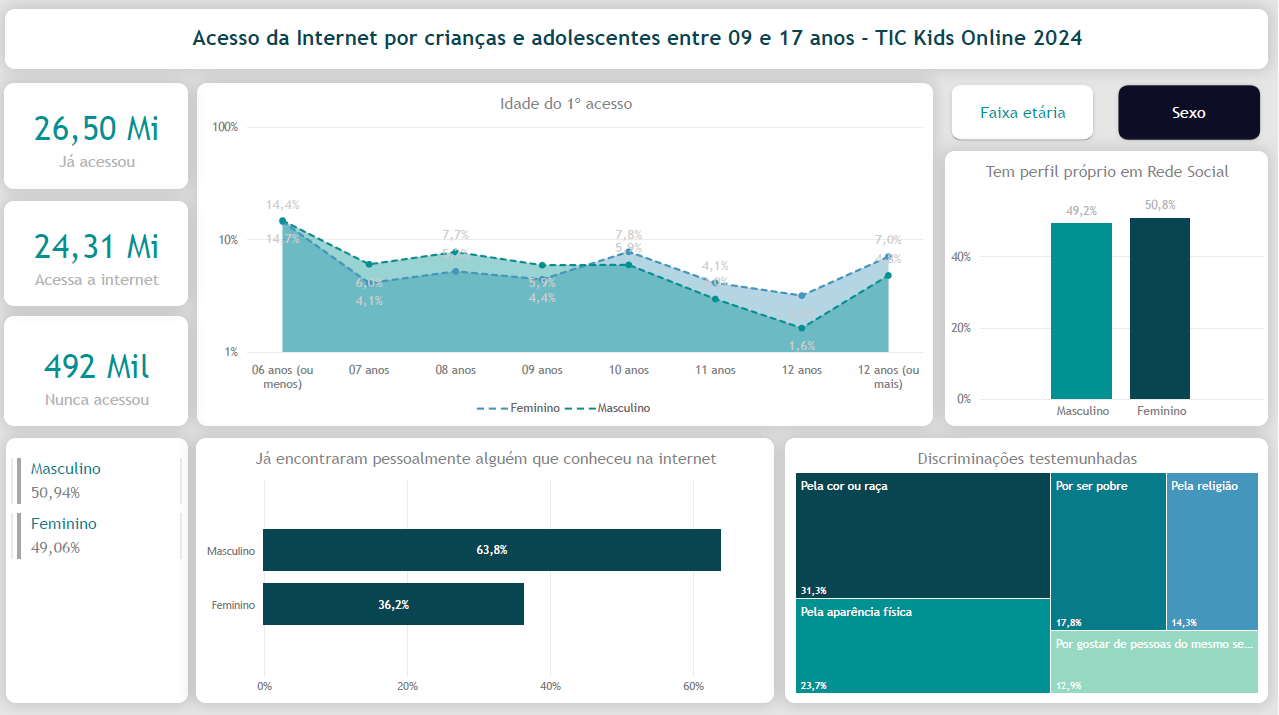

This screenshot's page, from the dashboard's own definition file:
{"tool":"powerbi","page":{"name":"Resumo","canvas":[1280,720],"ordinal":0},"visuals":[{"type":"lineChart","title":"Idade do 1º acesso","fields":{"Category":["1 Idade 1 acesso.Idade1Acesso"],"Y":["Sum(1 Idade 1 acesso.Quantidade)"],"Series":["1 Idade 1 acesso.Categoria"]},"box":[199.1,84.5,736.4,343.6],"z":0},{"type":"multiRowCard","fields":{"Values":["Sum(1 Ja acessou internet.Quantidade)","1 Ja acessou internet.Categoria"]},"box":[8.2,440,181.8,265.5],"z":1000},{"type":"card","fields":{"Values":["Sum(1 Ja acessou internet.Quantidade)"]},"box":[6.5,318,183.3,110],"z":2000},{"type":"card","fields":{"Values":["Sum(1 Ja acessou internet.Quantidade)"]},"box":[6.5,84.7,183.3,106.7],"z":3000},{"type":"card","fields":{"Values":["Sum(1 Frequencia de uso.Quantidade)"]},"box":[6.5,203,183.3,105],"z":4000},{"type":"advancedSlicerVisual","fields":{"Values":["1 Ja acessou internet.TipoCategoria"]},"box":[946.9,79.8,323.4,68.8],"z":5000},{"type":"textbox","box":[7.1,11.4,1262.9,60],"z":6000},{"type":"clusteredColumnChart","title":"Tem perfil próprio em Rede Social","fields":{"Category":["2a Tem perfil proprio em rede s.Categoria"],"Y":["Sum(2a Tem perfil proprio em rede s.Valor)"]},"box":[947.3,152.7,322.7,275.5],"z":7000},{"type":"clusteredBarChart","title":"Já encontraram pessoalmente alguém que conheceu na internet","fields":{"Y":["Sum(5- Contato pessoalmente com pes.Valor)"],"Category":["5- Contato pessoalmente com pes.Categoria"]},"box":[198.2,440,578.2,265.5],"z":8000},{"type":"treemap","title":"Discriminações testemunhadas","fields":{"Group":["7- Tipos de discriminação teste.Resposta"],"Values":["Sum(7- Tipos de discriminação teste.Valor)"]},"box":[787.3,440,482.7,265.5],"z":9000}]}

Visuals, with their boxes in screenshot pixels (x1, y1, x2, y2), scaled from the page's 1280x720 canvas onto the 1279x715 screenshot:
"Idade do 1º acesso" lineChart: pyautogui.locateOnScreen(199, 84, 935, 425)
multiRowCard - Sum(1 Ja acessou internet.Quantidade) x 1 Ja acessou internet.Categoria: pyautogui.locateOnScreen(8, 437, 190, 701)
card - Sum(1 Ja acessou internet.Quantidade): pyautogui.locateOnScreen(6, 316, 190, 425)
card - Sum(1 Ja acessou internet.Quantidade): pyautogui.locateOnScreen(6, 84, 190, 190)
card - Sum(1 Frequencia de uso.Quantidade): pyautogui.locateOnScreen(6, 202, 190, 306)
advancedSlicerVisual - 1 Ja acessou internet.TipoCategoria: pyautogui.locateOnScreen(946, 79, 1269, 148)
textbox: pyautogui.locateOnScreen(7, 11, 1269, 71)
"Tem perfil próprio em Rede Social" clusteredColumnChart: pyautogui.locateOnScreen(947, 152, 1269, 425)
"Já encontraram pessoalmente alguém que conheceu na internet" clusteredBarChart: pyautogui.locateOnScreen(198, 437, 776, 701)
"Discriminações testemunhadas" treemap: pyautogui.locateOnScreen(787, 437, 1269, 701)
